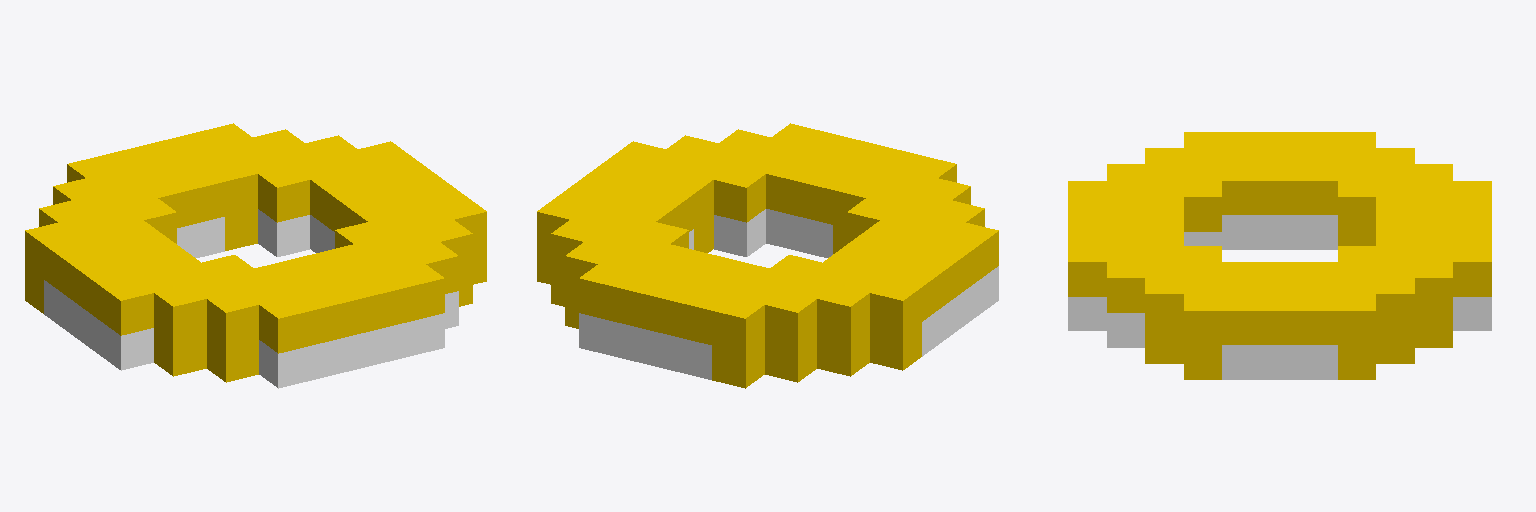
3 views of the same model, side by side, from view 1: azimuth 30°, elevation 25°; view 2: azimuth 150°, elevation 25°; view 3: azimuth 270°, elevation 25° (orthographic).
Parts seen in each view (by area): view 1: object 1; view 2: object 1; view 3: object 1.
Part boxes in pixels (bbox=[...]): object 1: bbox=[25, 123, 486, 388]; object 1: bbox=[537, 123, 998, 388]; object 1: bbox=[1068, 132, 1491, 379].
Size of the model in its own units: 1.1 by 0.2 by 1.1.
1 materials, 1 textured.